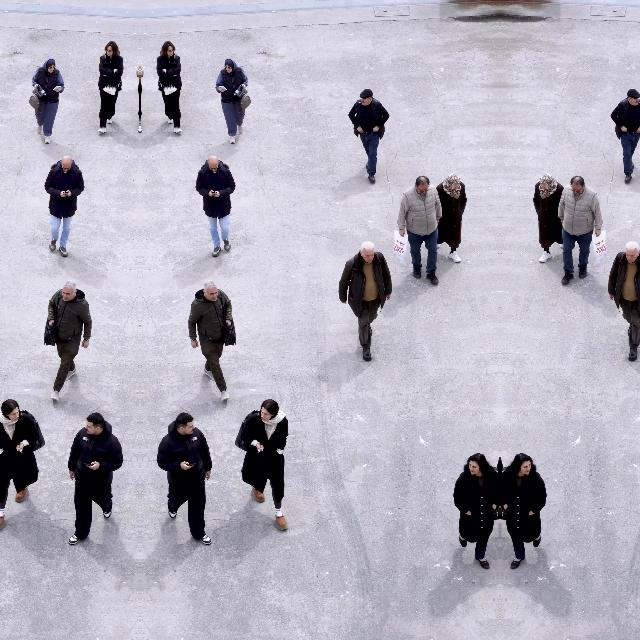person: (156, 412, 214, 546), (66, 412, 124, 546), (234, 399, 290, 531), (338, 242, 392, 362), (0, 399, 45, 531), (186, 281, 234, 403), (46, 281, 94, 403), (452, 454, 500, 570), (500, 454, 548, 570), (397, 176, 443, 286), (557, 176, 603, 286), (195, 155, 237, 257), (43, 155, 85, 257), (348, 88, 390, 184), (608, 242, 640, 362), (434, 173, 468, 263), (532, 173, 566, 263), (215, 58, 249, 144), (31, 58, 65, 144), (610, 88, 640, 184), (156, 41, 182, 135), (98, 41, 124, 135), (140, 64, 144, 134), (136, 64, 140, 134)
